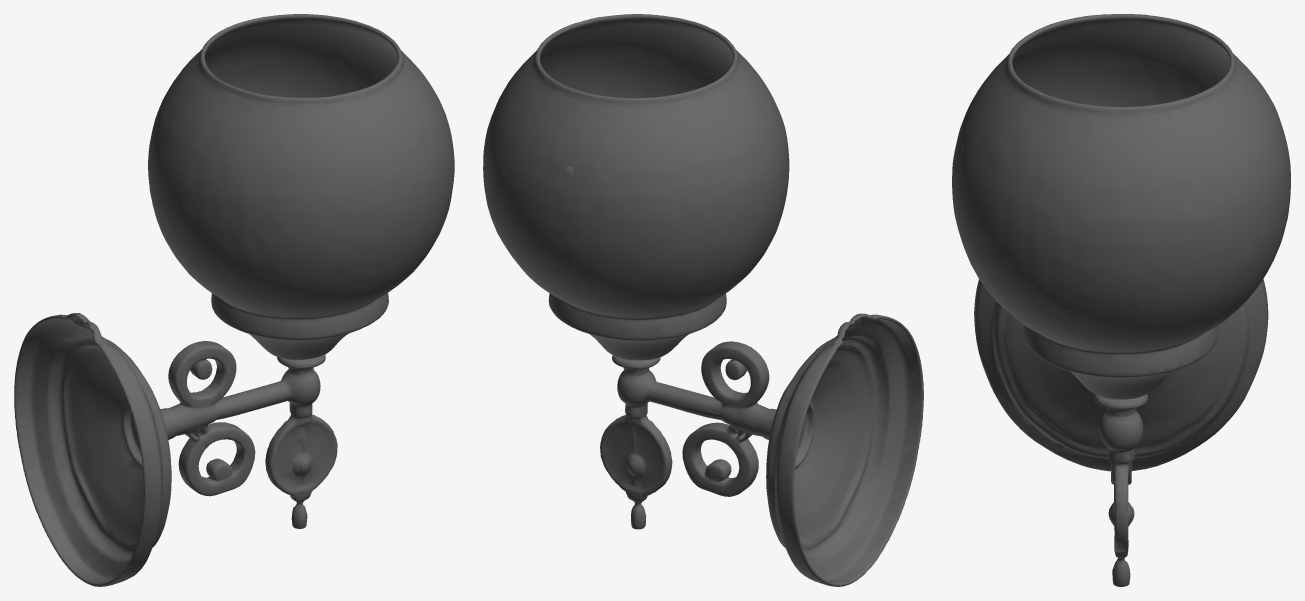
3 renders of one model, left to right at view 1: azimuth 30°, elevation 25°; view 2: azimuth 150°, elevation 25°; view 3: azimuth 270°, elevation 25°, orthographic. The views are drawn at different scales.
Visible parts, largest first — view 1: mesh_uvwarp; view 2: mesh_uvwarp; view 3: mesh_uvwarp.
Boxes of the visible parts, bbox=[...] form: mesh_uvwarp: bbox=[14, 14, 454, 586]; mesh_uvwarp: bbox=[483, 14, 923, 586]; mesh_uvwarp: bbox=[952, 14, 1290, 586].
Bounding box in the file's own units: 1.58 × 2 × 1.17.
1 material, 1 textured.
